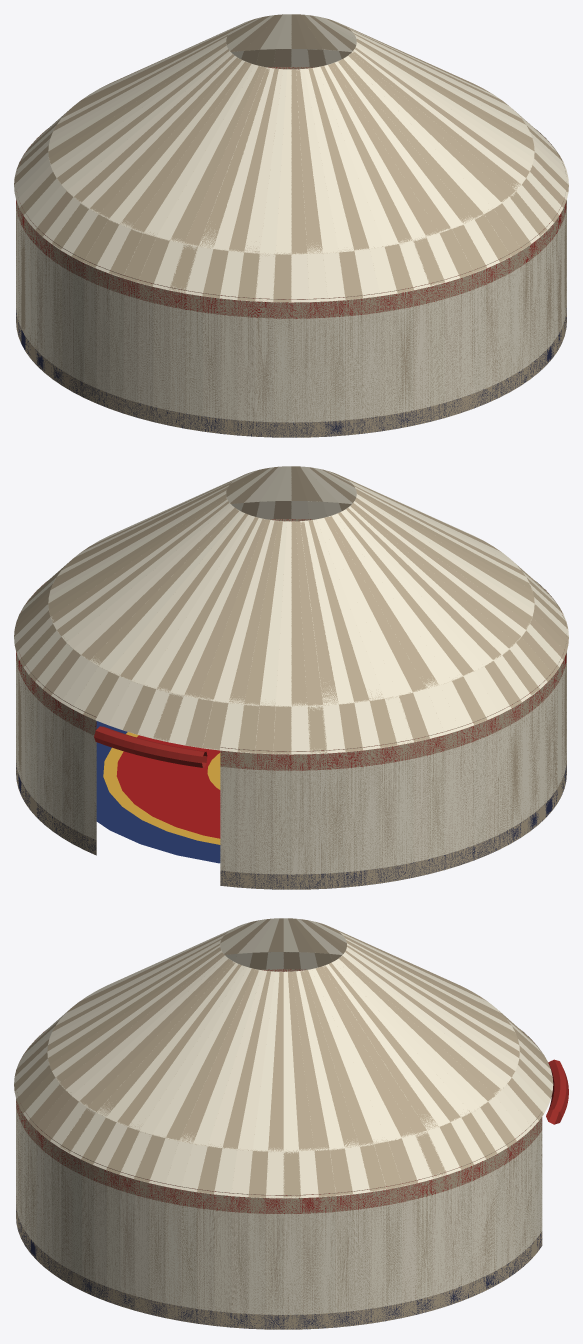
File: Kiyiz_Built.obj
The picture shows the model from 3 angles, top to bottom: view 1: azimuth 30°, elevation 25°; view 2: azimuth 150°, elevation 25°; view 3: azimuth 270°, elevation 25°; orthographic projection. The views are drawn at different scales.
Parts seen in each view (by area): view 1: Kiyiz_Built; view 2: Kiyiz_Built; view 3: Kiyiz_Built.
Part boxes in pixels (bbox=[...]): Kiyiz_Built: bbox=[14, 14, 568, 437]; Kiyiz_Built: bbox=[14, 466, 568, 889]; Kiyiz_Built: bbox=[14, 918, 568, 1329].
Size of the model in its own units: 8.24 by 4.58 by 8.48.
